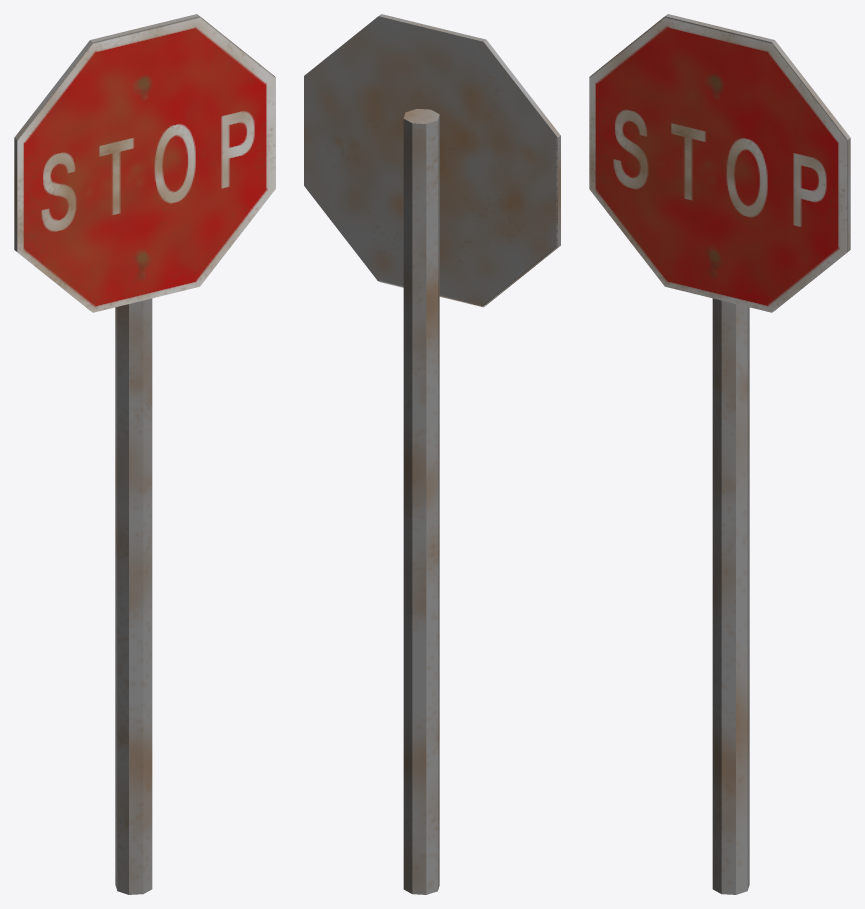
File: stopSign_001.fbx
3 renders of one model, left to right at view 1: azimuth 30°, elevation 25°; view 2: azimuth 150°, elevation 25°; view 3: azimuth 330°, elevation 25°, orthographic.
Visible parts, largest first — view 1: Circle; view 2: Circle; view 3: Circle.
Boxes of the visible parts, x1,y1,x2,y2 form: Circle: (14, 14, 275, 894); Circle: (304, 14, 560, 894); Circle: (589, 14, 850, 894).
Bounding box in the file's own units: 1.85 × 5.92 × 0.2744.
